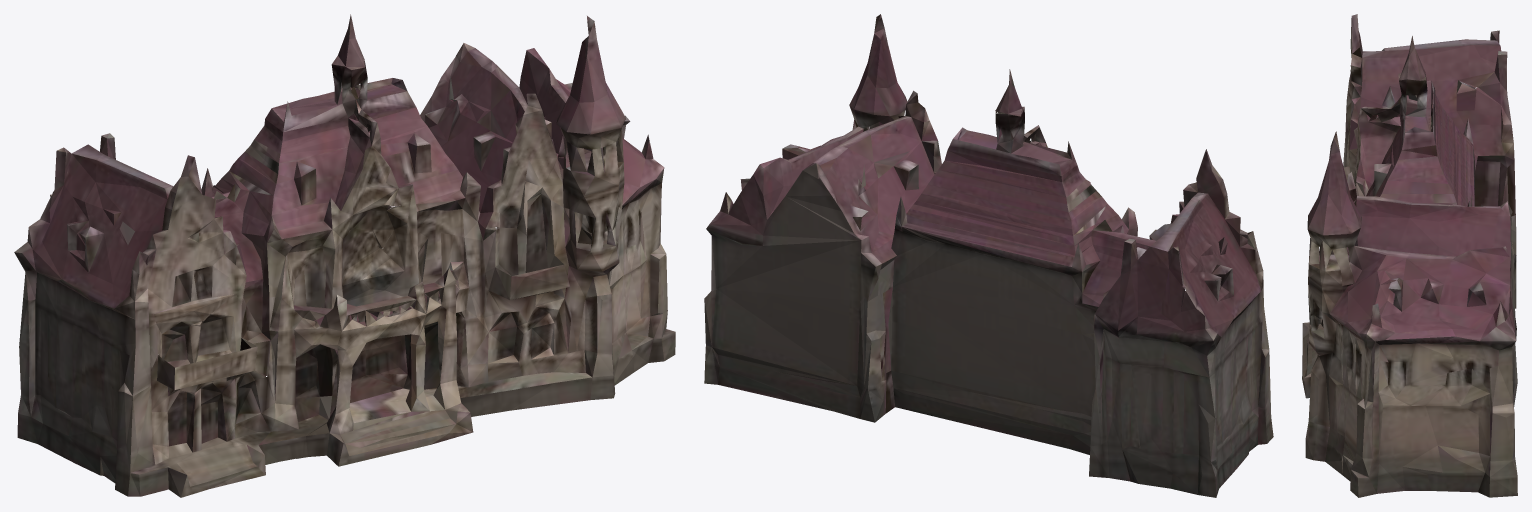
The model's file is park_ruined_facade_1117.glb.
3 renders of one model, left to right at view 1: azimuth 30°, elevation 25°; view 2: azimuth 150°, elevation 25°; view 3: azimuth 270°, elevation 25°, orthographic. The views are drawn at different scales.
Visible parts, largest first — view 1: world; view 2: world; view 3: world.
Part boxes in pixels (x1,y1,x2,y2): world: (14,14,675,497); world: (704,14,1273,497); world: (1302,14,1517,497).
Bounding box in the file's own units: 1.56 × 1 × 0.5763.
Materials: 1 (1 with a texture image).
